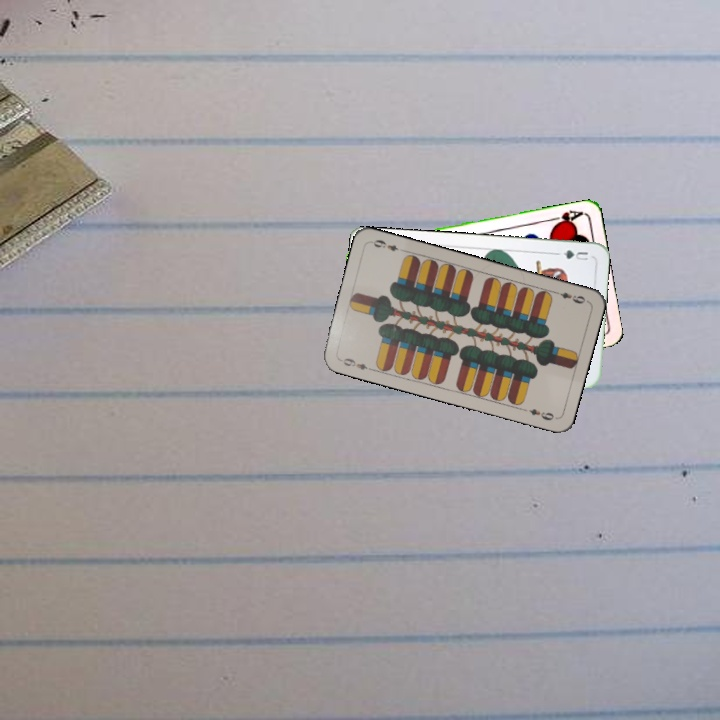E9: (336, 354, 375, 373), (550, 287, 588, 306)
GU: (553, 246, 590, 263)
HA: (545, 206, 586, 229)
